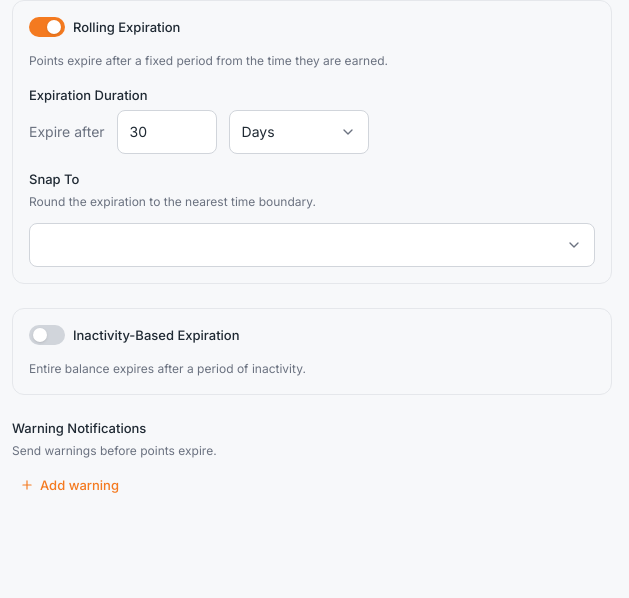
ExpirationTabContent rendering › adds multiple warning days sequentially
Click the button "Add warning" at (70, 485), box [12,472,127,498]
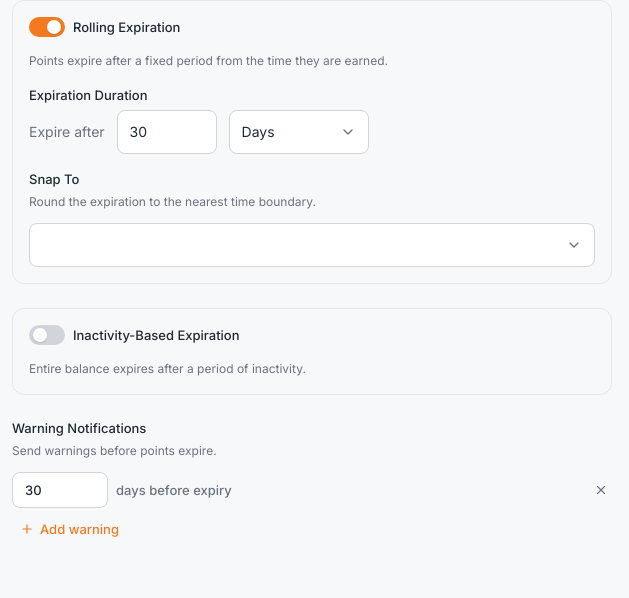
Now the text "days before expiry" is shown once, box [116,481,232,499]
Click the button "Add warning" at (70, 529), box [12,516,127,542]
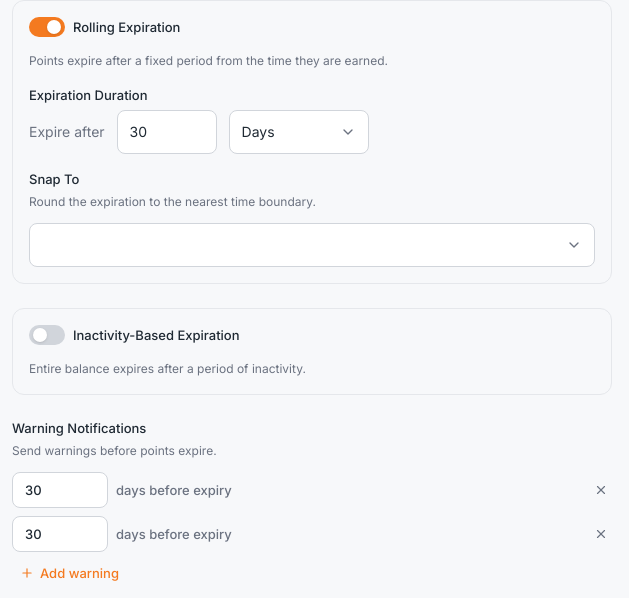
Now the text "days before expiry" is shown 2 times, box [116,481,232,499]; [116,525,232,543]
